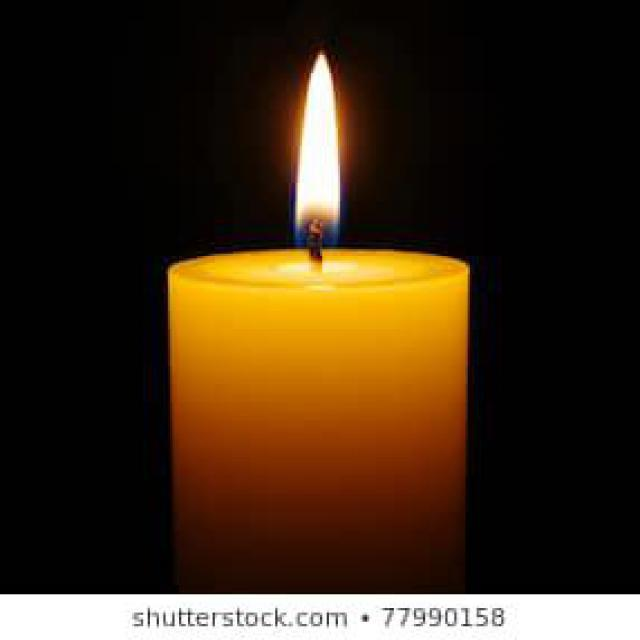Fire: (296, 50, 340, 246)
